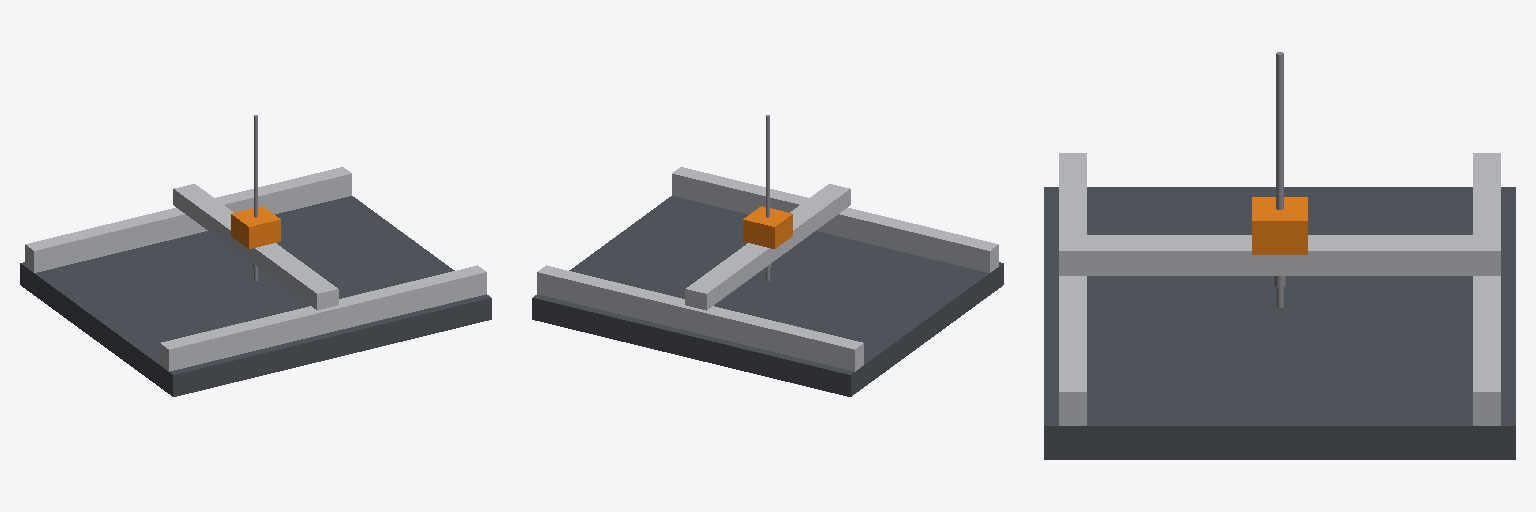
The robot description file, URDF, robot "gantry":
<?xml version="1.0"?>
<!-- A two-axis gantry on steppers (RFC 0020 §4.5), the sample of docs/physics/actuators.md
     "Steppers": x on a GT2 belt, y on a T8 lead screw, as on a desktop printer or a pick-and-place
     head. Its motors, drivers and supply are in gantry.overlay.yaml. Dimensions and masses are
     illustrative, not a real product. -->
<robot name="gantry">
  <link name="world"/>
  <link name="frame">
    <inertial>
      <origin xyz="0 0 0.02"/>
      <mass value="8"/>
      <inertia ixx="0.18" iyy="0.18" izz="0.36" ixy="0" ixz="0" iyz="0"/>
    </inertial>
    <visual>
      <origin xyz="0 0 0.02"/>
      <geometry><box size="0.6 0.5 0.04"/></geometry>
      <material name="grey"><color rgba="0.35 0.37 0.4 1"/></material>
    </visual>
    <visual>
      <origin xyz="0 -0.22 0.06"/>
      <geometry><box size="0.6 0.03 0.04"/></geometry>
      <material name="aluminium"><color rgba="0.78 0.79 0.81 1"/></material>
    </visual>
    <visual>
      <origin xyz="0 0.22 0.06"/>
      <geometry><box size="0.6 0.03 0.04"/></geometry>
      <material name="aluminium"/>
    </visual>
    <collision>
      <origin xyz="0 0 0.02"/>
      <geometry><box size="0.6 0.5 0.04"/></geometry>
    </collision>
  </link>
  <joint name="frame_fixed" type="fixed">
    <parent link="world"/>
    <child link="frame"/>
  </joint>

  <!-- X: the beam across the rails, on a 20-tooth GT2 belt (40 mm a turn). -->
  <link name="beam">
    <inertial>
      <mass value="1.0"/>
      <inertia ixx="0.02" iyy="0.0003" izz="0.02" ixy="0" ixz="0" iyz="0"/>
    </inertial>
    <visual>
      <geometry><box size="0.04 0.47 0.03"/></geometry>
      <material name="aluminium"/>
    </visual>
    <visual>
      <origin xyz="0.0 0 0.017"/>
      <geometry><cylinder radius="0.004" length="0.44"/></geometry>
      <material name="steel"><color rgba="0.6 0.6 0.62 1"/></material>
    </visual>
  </link>
  <joint name="x" type="prismatic">
    <parent link="frame"/>
    <child link="beam"/>
    <origin xyz="0 0 0.1"/>
    <axis xyz="1 0 0"/>
    <limit lower="-0.25" upper="0.25" effort="100" velocity="0.2"/>
    <dynamics damping="5"/>
  </joint>

  <!-- Y: the head on the beam, on a T8 lead screw (8 mm lead). -->
  <link name="head">
    <inertial>
      <mass value="0.3"/>
      <inertia ixx="0.0002" iyy="0.0002" izz="0.0002" ixy="0" ixz="0" iyz="0"/>
    </inertial>
    <visual>
      <origin xyz="0 0 0.035"/>
      <geometry><box size="0.06 0.06 0.04"/></geometry>
      <material name="orange"><color rgba="0.95 0.55 0.15 1"/></material>
    </visual>
    <visual>
      <origin xyz="0 0 -0.01"/>
      <geometry><cylinder radius="0.006" length="0.05"/></geometry>
      <material name="steel"/>
    </visual>
  </link>
  <joint name="y" type="prismatic">
    <parent link="beam"/>
    <child link="head"/>
    <axis xyz="0 1 0"/>
    <limit lower="-0.2" upper="0.2" effort="300" velocity="0.04"/>
    <dynamics damping="5"/>
  </joint>
</robot>

--- What the picture shows (computed from the rendered views, not written in the file) ---
The picture shows the robot from 3 angles, left to right: view 1: azimuth 30°, elevation 25°; view 2: azimuth 150°, elevation 25°; view 3: azimuth 270°, elevation 25°; orthographic projection.
Model gantry with 4 links and 3 joints (2 prismatic, 1 fixed), rooted at world, posed every joint at zero.
Visible links, largest first — view 1: frame, beam, head; view 2: frame, beam, head; view 3: frame, beam, head.
Link boxes in pixels (x1=…): frame: x1=20, y1=167, x2=491, y2=396; beam: x1=173, y1=115, x2=338, y2=310; head: x1=231, y1=206, x2=280, y2=267; frame: x1=532, y1=167, x2=1003, y2=396; beam: x1=685, y1=115, x2=850, y2=310; head: x1=743, y1=206, x2=792, y2=267; frame: x1=1044, y1=153, x2=1515, y2=459; beam: x1=1059, y1=52, x2=1500, y2=307; head: x1=1252, y1=197, x2=1307, y2=287.
Size in the robot's own frame: 0.6 by 0.5 by 0.44 metres.
Geometry: primitives only (box / cylinder / sphere), no mesh files.
